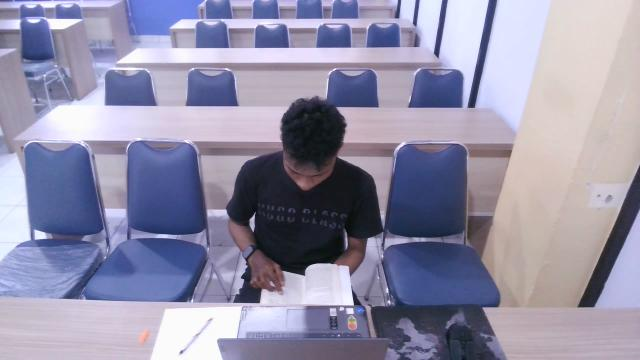Cheat_Sheet: (255, 262, 354, 309)
Head_Down_Extreme: (216, 88, 393, 320)
